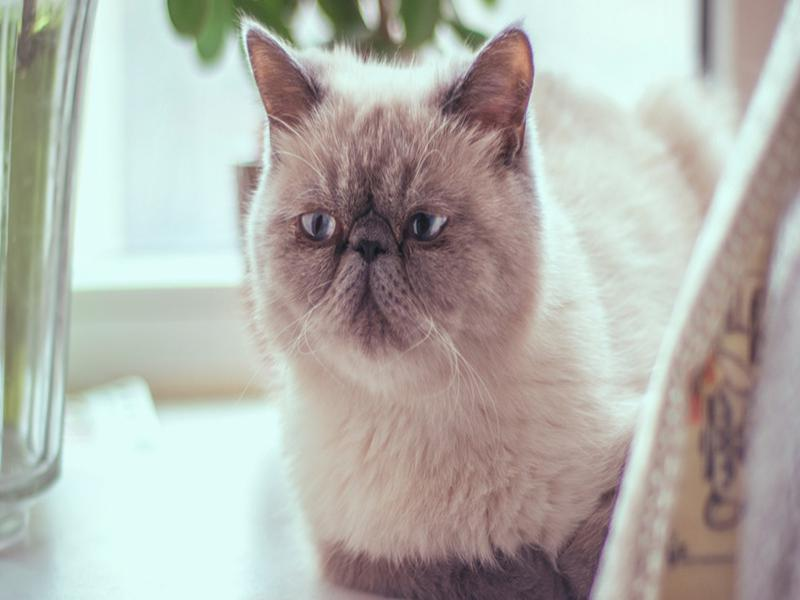cat: (219, 14, 623, 597)
